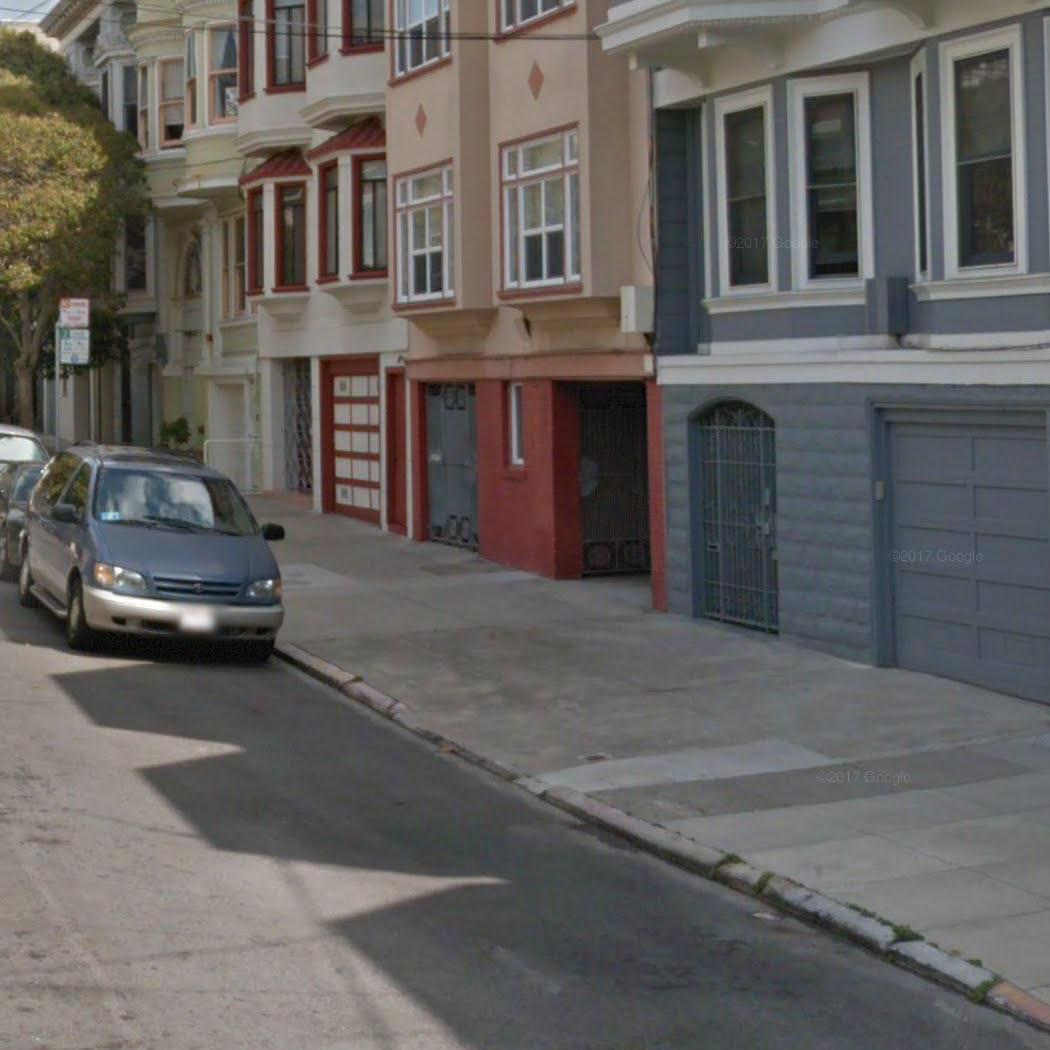2 Hour Parking: (58, 326, 91, 366)
No Parking: (58, 297, 91, 327)
